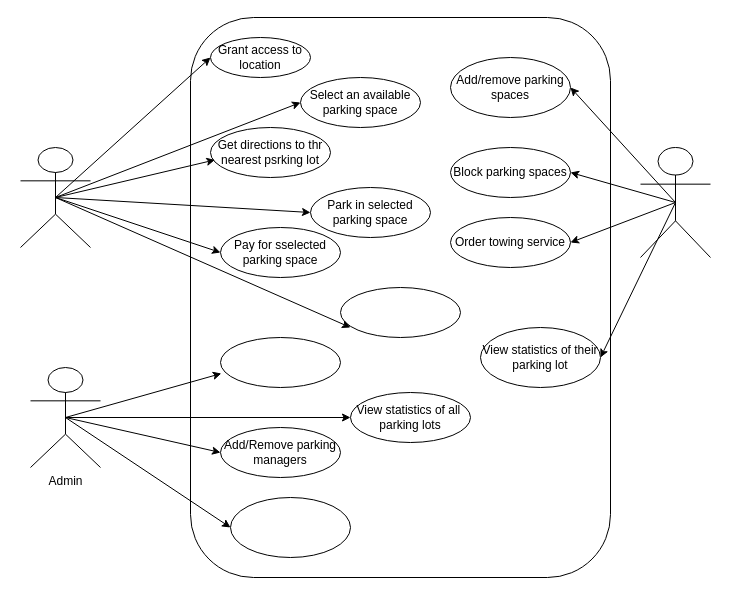
This 738x595 diagram has some shape labels left out. Each missing label, with the centre of its shape:
Add/Remove parking lots: the point at 280,362
Ban Users: the point at 290,527
Parking Manager: the point at 675,202
Vehicle Owner: the point at 55,197
View History: the point at 400,312
